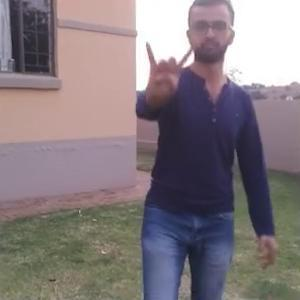takeoff-hand: (135, 31, 213, 113)
